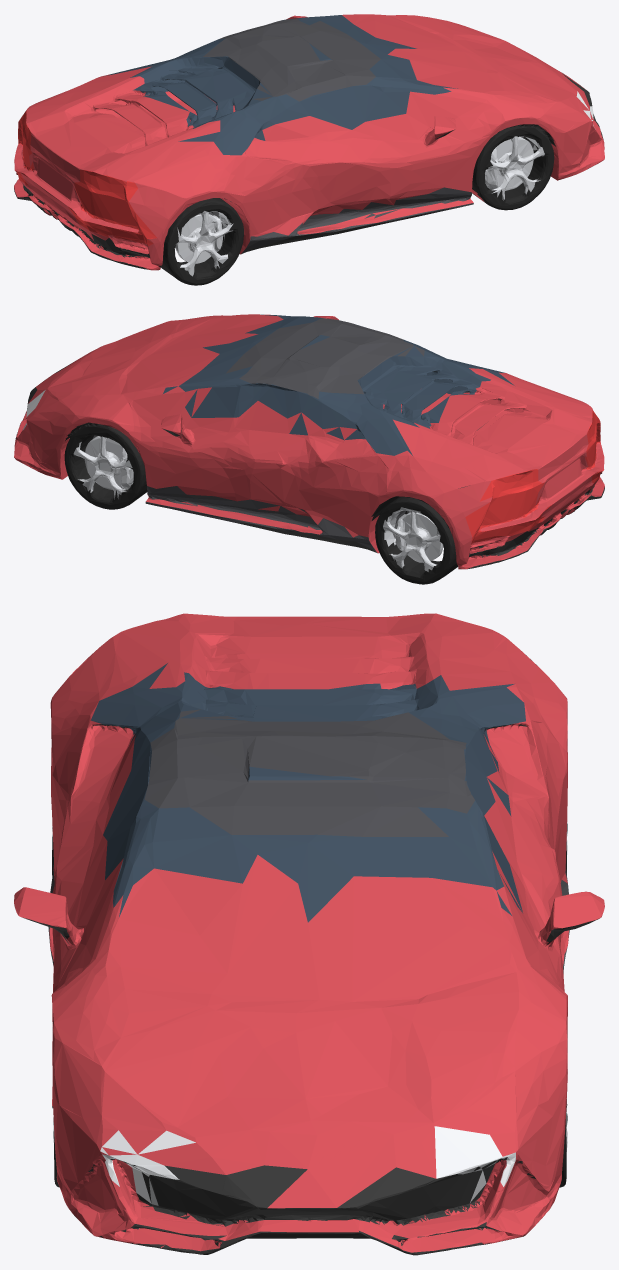
The model's file is CarConcept3.game.glb.
The picture shows the model from 3 angles, top to bottom: view 1: azimuth 30°, elevation 25°; view 2: azimuth 150°, elevation 25°; view 3: azimuth 270°, elevation 25°; orthographic projection. The views are drawn at different scales.
Visible parts, largest first — view 1: Body, WheelFrontR, WheelRearR; view 2: Body, WheelRearL, WheelFrontL; view 3: Body.
Boxes of the visible parts, x1,y1,x2,y2 form: Body: (14, 14, 604, 270); WheelFrontR: (472, 124, 555, 210); WheelRearR: (161, 198, 243, 285); Body: (14, 314, 604, 569); WheelRearL: (371, 496, 458, 584); WheelFrontL: (64, 423, 147, 509); Body: (14, 613, 604, 1255).
Bounding box in the file's own units: 4.4 × 1.18 × 2.24.
